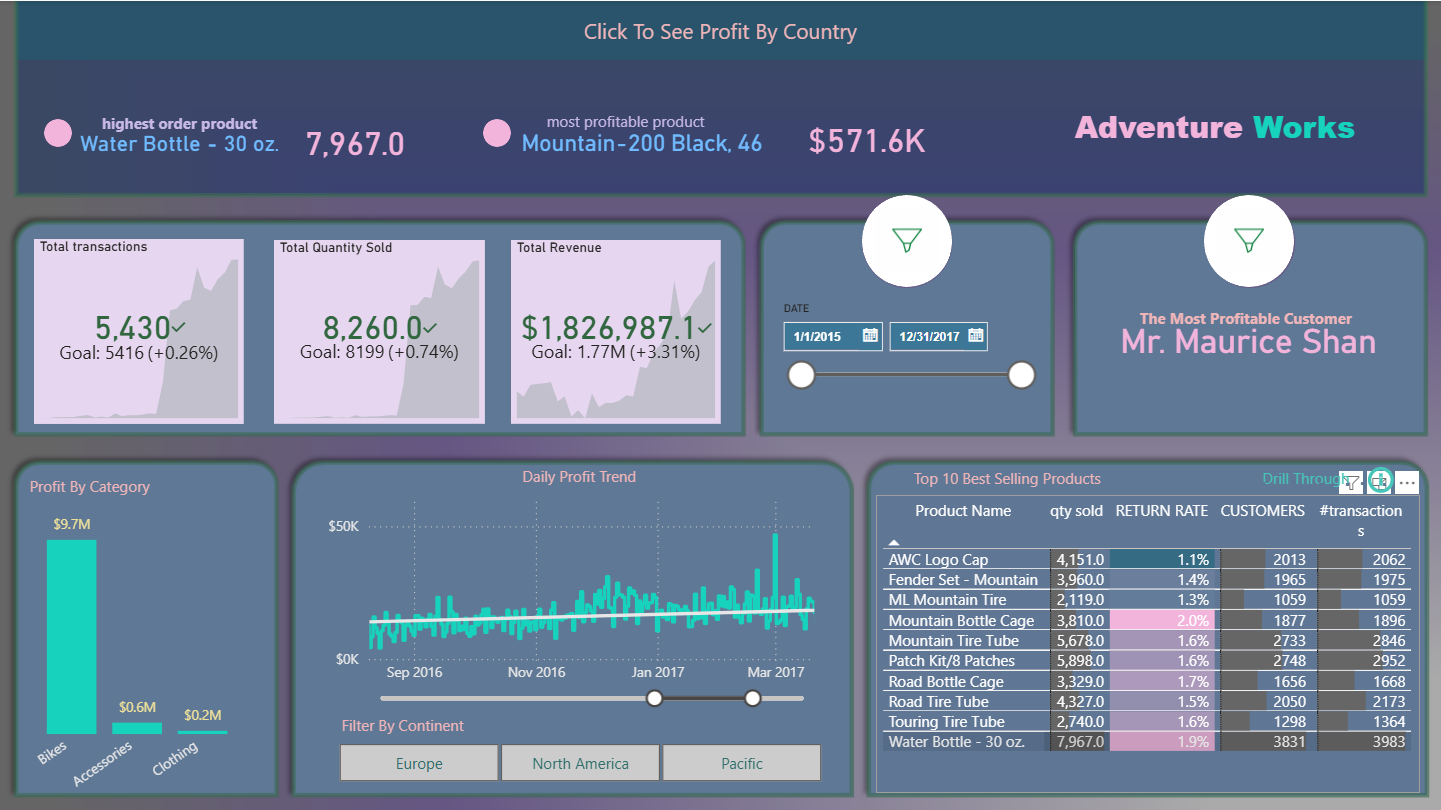

The page's visual inventory and layout, read from the dashboard file:
{"tool":"powerbi","page":{"name":"detail view","canvas":[1280,720],"ordinal":3},"visuals":[{"type":"actionButton","title":"Show","box":[446,7.1,387.5,39.9],"z":0,"group":"g1"},{"type":"kpi","title":"Total transactions","fields":{"Indicator":["measureTable.TRANSACTIONS"],"TrendLine":["DYNAMIC CALENDER.Start of Month"],"Goal":["previous measures.previous transaction"]},"box":[31,211,186.2,164],"z":0},{"type":"slicer","fields":{"Values":["DYNAMIC CALENDER.DATE"]},"box":[682.8,261.6,244.7,98.4],"z":1000},{"type":"kpi","title":"Total Quantity Sold","fields":{"TrendLine":["DYNAMIC CALENDER.Start of Month"],"Goal":["previous measures.previous qty"],"Indicator":["measureTable.total aty sold"]},"box":[243.8,211.9,187.1,163.2],"z":2000},{"type":"kpi","title":"Total Revenue","fields":{"TrendLine":["DYNAMIC CALENDER.Start of Month"],"Goal":["previous measures.previous rev"],"Indicator":["measureTable.total revenue"]},"box":[454,211.9,186.2,163.2],"z":3000},{"type":"card","fields":{"Values":["Min(DIM_Customers.FULL NAME)"]},"box":[968.3,277.5,279.3,44.3],"z":4000},{"type":"textbox","box":[298.8,628.7,203.1,31.9],"z":5000},{"type":"card","fields":{"Values":["measureTable.total aty sold"]},"box":[261.5,94.9,108.2,58.5],"z":6000},{"type":"card","fields":{"Values":["Min(DIMProducts.ProductName)"]},"box":[58.5,112.6,203.1,26.6],"z":7000},{"type":"textbox","box":[58.5,94.9,203.1,27.5],"z":8000},{"type":"card","fields":{"Values":["measureTable.total profit"]},"box":[704,90.4,131.2,63],"z":9000},{"type":"card","fields":{"Values":["Min(DIMProducts.ProductName)"]},"box":[446,105.5,248.3,40.8],"z":10000},{"type":"textbox","box":[480.6,93.1,202.2,31.9],"z":11000},{"type":"clusteredColumnChart","fields":{"Category":["DIM_Product_Subcategories.CategoryName"],"Y":["measureTable.total profit"]},"box":[14.2,439.8,219,280.2],"z":12000},{"type":"lineChart","fields":{"Category":["DYNAMIC CALENDER.DATE"],"Y":["measureTable.total profit"]},"box":[286.4,428.3,457.5,201.3],"z":13000},{"type":"slicer","fields":{"Values":["DIM_Territories.Continent"]},"box":[281.1,650.8,467.3,48.8],"z":14000},{"type":"tableEx","fields":{"Values":["DIMProducts.ProductName","measureTable.total aty sold","measureTable.RETURN RATE","measureTable.CUSTOMERS","measureTable.#transactions"]},"box":[777.6,438,482.4,264.2],"z":15000},{"type":"textbox","box":[927.5,87.8,301.5,58.5],"z":16000},{"type":"shape","box":[39.9,104.6,24.8,24.8],"z":17000},{"type":"shape","box":[429.2,104.6,24.8,24.8],"z":18000},{"type":"actionButton","box":[765.2,172,79.8,81.6],"z":19000},{"type":"actionButton","box":[1068.5,172,79.8,81.6],"z":20000},{"type":"textbox","box":[1006.4,267.8,203.1,31.9],"z":21000},{"type":"textbox","box":[22.2,416.7,203.1,31.9],"z":22000},{"type":"textbox","box":[413.2,407.9,203.1,31.9],"z":23000},{"type":"textbox","box":[792.7,409.3,203,27.6],"z":24000},{"type":"group","id":"g1","title":"Map btn","box":[446,7.1,387.5,39.9],"z":25000},{"type":"actionButton","box":[1209.5,408.4,38.4,31.7],"z":28000},{"type":"textbox","box":[1108.4,409.3,101.1,27.6],"z":29000},{"type":"card","fields":{"Values":["measureTable.info"]},"box":[1215.7,413.2,25.7,23.1],"z":30000},{"type":"card","fields":{"Values":["measureTable.info"]},"box":[1196.2,412.3,25.7,23.1],"z":31000},{"type":"card","fields":{"Values":["measureTable.info"]},"box":[1182.9,413.2,25.7,23.1],"z":32000},{"type":"card","fields":{"Values":["measureTable.info"]},"box":[1158.9,413.2,25.7,23.1],"z":33000},{"type":"card","fields":{"Values":["measureTable.info"]},"box":[1135,411.4,25.7,23.1],"z":34000},{"type":"card","fields":{"Values":["measureTable.info"]},"box":[1122.6,417.6,25.7,23.1],"z":35000},{"type":"card","fields":{"Values":["measureTable.info"]},"box":[1108.4,412.3,25.7,23.1],"z":36000}]}

Visuals, with their boxes in screenshot pixels (x1, y1, x2, y2), scaled from the page's 1280x720 canvas onto the 1441x810 screenshot:
"Show" actionButton: {"left": 502, "top": 8, "right": 938, "bottom": 53}
"Total transactions" kpi: {"left": 35, "top": 237, "right": 245, "bottom": 422}
slicer - DYNAMIC CALENDER.DATE: {"left": 769, "top": 294, "right": 1044, "bottom": 405}
"Total Quantity Sold" kpi: {"left": 274, "top": 238, "right": 485, "bottom": 422}
"Total Revenue" kpi: {"left": 511, "top": 238, "right": 721, "bottom": 422}
card - Min(DIM_Customers.FULL NAME): {"left": 1090, "top": 312, "right": 1405, "bottom": 362}
textbox: {"left": 336, "top": 707, "right": 565, "bottom": 743}
card - measureTable.total aty sold: {"left": 294, "top": 107, "right": 416, "bottom": 173}
card - Min(DIMProducts.ProductName): {"left": 66, "top": 127, "right": 295, "bottom": 157}
textbox: {"left": 66, "top": 107, "right": 295, "bottom": 138}
card - measureTable.total profit: {"left": 793, "top": 102, "right": 940, "bottom": 173}
card - Min(DIMProducts.ProductName): {"left": 502, "top": 119, "right": 782, "bottom": 165}
textbox: {"left": 541, "top": 105, "right": 769, "bottom": 141}
clusteredColumnChart - DIM_Product_Subcategories.CategoryName x measureTable.total profit: {"left": 16, "top": 495, "right": 263, "bottom": 809}
lineChart - DYNAMIC CALENDER.DATE x measureTable.total profit: {"left": 322, "top": 482, "right": 837, "bottom": 708}
slicer - DIM_Territories.Continent: {"left": 316, "top": 732, "right": 843, "bottom": 787}
tableEx - DIMProducts.ProductName x measureTable.total aty sold: {"left": 875, "top": 493, "right": 1418, "bottom": 790}
textbox: {"left": 1044, "top": 99, "right": 1384, "bottom": 165}
shape: {"left": 45, "top": 118, "right": 73, "bottom": 146}
shape: {"left": 483, "top": 118, "right": 511, "bottom": 146}
actionButton: {"left": 861, "top": 194, "right": 951, "bottom": 285}
actionButton: {"left": 1203, "top": 194, "right": 1293, "bottom": 285}
textbox: {"left": 1133, "top": 301, "right": 1362, "bottom": 337}
textbox: {"left": 25, "top": 469, "right": 254, "bottom": 505}
textbox: {"left": 465, "top": 459, "right": 694, "bottom": 495}
textbox: {"left": 892, "top": 460, "right": 1121, "bottom": 492}
"Map btn" group: {"left": 502, "top": 8, "right": 938, "bottom": 53}
actionButton: {"left": 1362, "top": 459, "right": 1405, "bottom": 495}
textbox: {"left": 1248, "top": 460, "right": 1362, "bottom": 492}
card - measureTable.info: {"left": 1369, "top": 465, "right": 1398, "bottom": 491}
card - measureTable.info: {"left": 1347, "top": 464, "right": 1376, "bottom": 490}
card - measureTable.info: {"left": 1332, "top": 465, "right": 1361, "bottom": 491}
card - measureTable.info: {"left": 1305, "top": 465, "right": 1334, "bottom": 491}
card - measureTable.info: {"left": 1278, "top": 463, "right": 1307, "bottom": 489}
card - measureTable.info: {"left": 1264, "top": 470, "right": 1293, "bottom": 496}
card - measureTable.info: {"left": 1248, "top": 464, "right": 1277, "bottom": 490}
